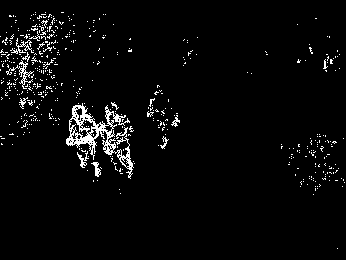person: (102, 98, 141, 180), (66, 105, 100, 183)
